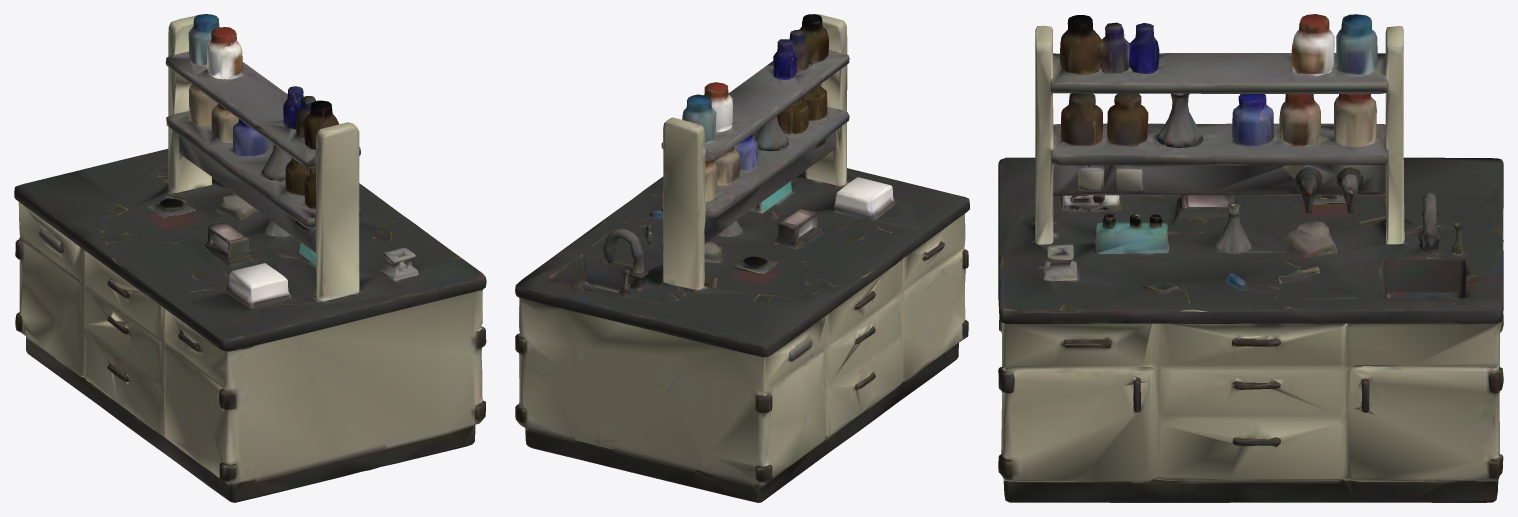
Rendered from lab_bench.glb.
3 views of the same model, side by side, from view 1: azimuth 30°, elevation 25°; view 2: azimuth 150°, elevation 25°; view 3: azimuth 270°, elevation 25° (orthographic). The views are drawn at different scales.
Visible parts, largest first — view 1: geometry_0; view 2: geometry_0; view 3: geometry_0.
Boxes of the visible parts, box(x1,y1,x2,y2) form: geometry_0: box(14, 14, 486, 502); geometry_0: box(515, 14, 969, 502); geometry_0: box(998, 14, 1503, 502).
Bounding box in the file's own units: 0.732 × 0.9079 × 1.
1 material, 1 textured.
